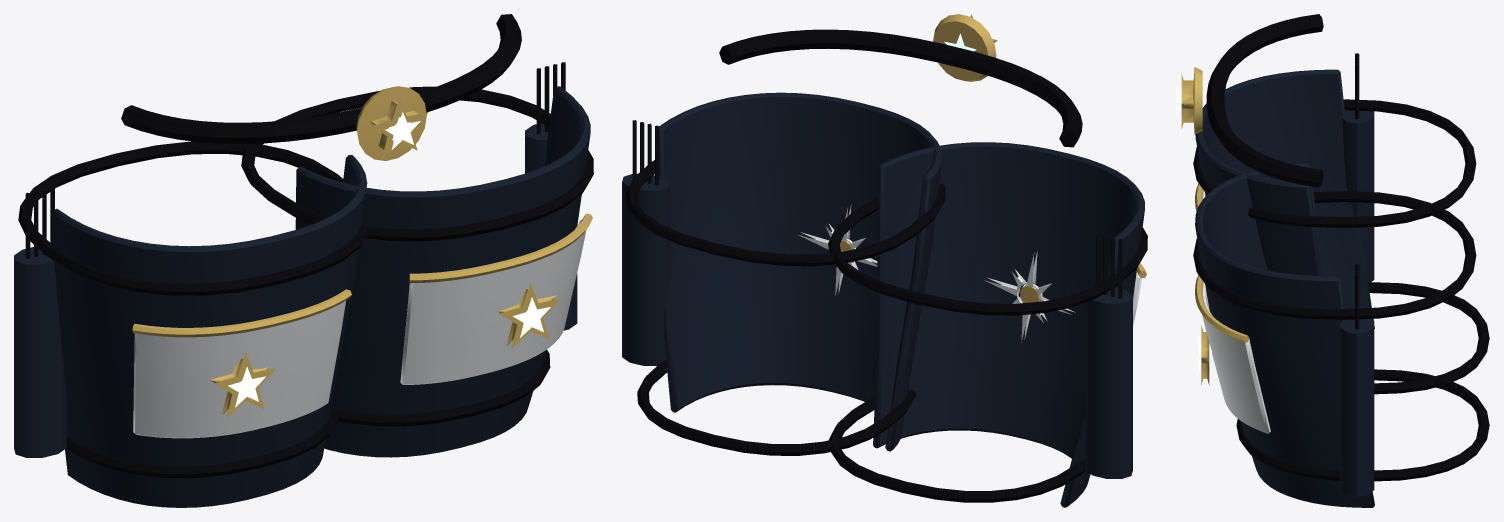
File: esc_skys_end_warden_leggings.glb
3 views of the same model, side by side, from view 1: azimuth 30°, elevation 25°; view 2: azimuth 150°, elevation 25°; view 3: azimuth 270°, elevation 25° (orthographic). The views are drawn at different scales.
Parts seen in each view (by area): view 1: AT_thigh_R, AT_thigh_L, esc_skys_end_warden_leggings; view 2: AT_thigh_L, AT_thigh_R, esc_skys_end_warden_leggings; view 3: AT_thigh_L, AT_thigh_R, esc_skys_end_warden_leggings.
Part boxes in pixels (x1,y1,x2,y2): AT_thigh_R: (14,141,367,507); AT_thigh_L: (241,62,593,457); esc_skys_end_warden_leggings: (121,14,521,160); AT_thigh_L: (622,92,945,455); AT_thigh_R: (828,142,1147,507); esc_skys_end_warden_leggings: (719,14,1082,342); AT_thigh_L: (1193,162,1489,507); AT_thigh_R: (1193,53,1489,394); esc_skys_end_warden_leggings: (1176,14,1323,187).
Bounding box in the file's own units: 0.5454 × 0.3851 × 0.3132.
